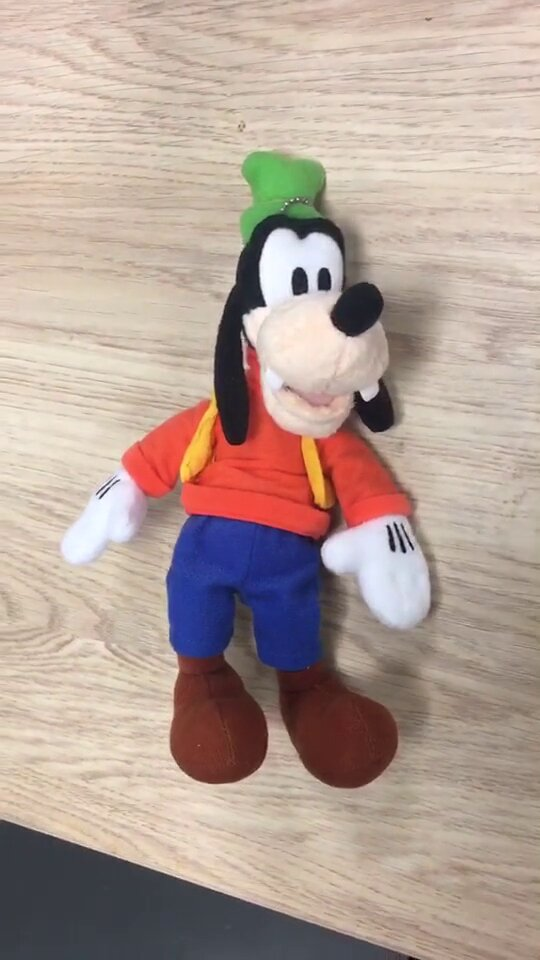goofy: (61, 148, 437, 794)
